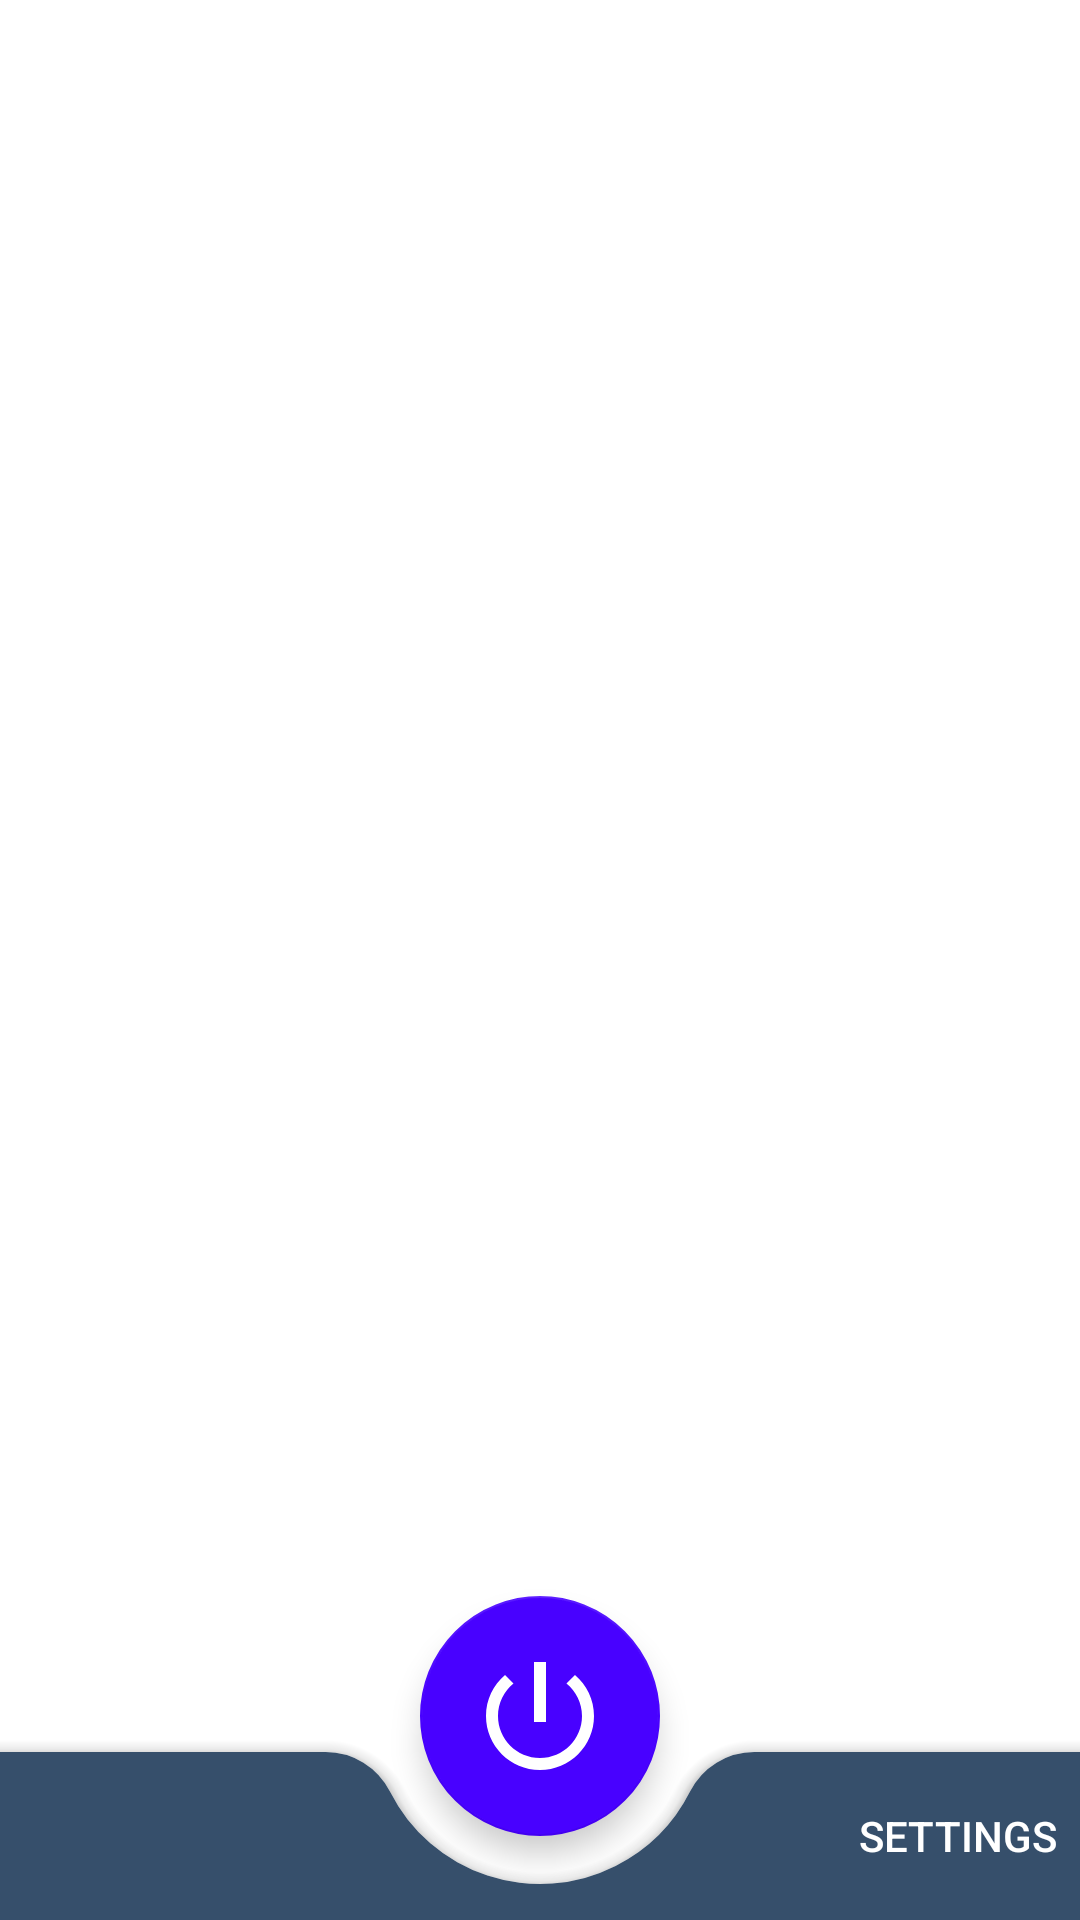

Point at icon controls on the screen. Image size 1080px x 1920px, points as (x,y).
power: (540,1752)
